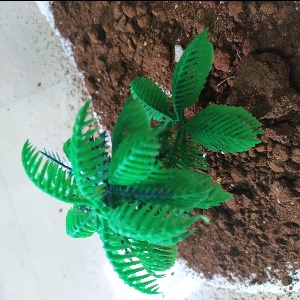plant: (20, 33, 266, 296)
